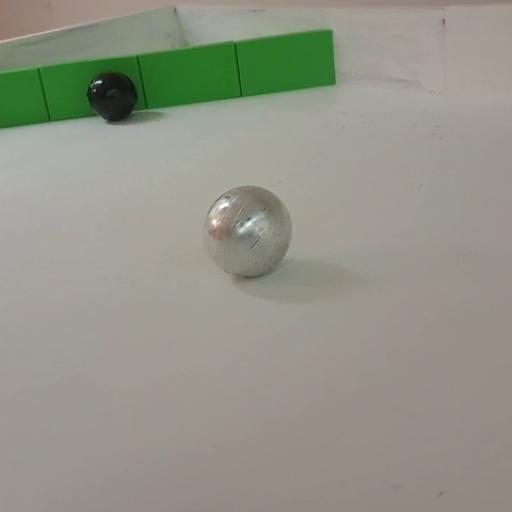alive: (203, 184, 294, 282)
dead: (88, 70, 140, 125)
